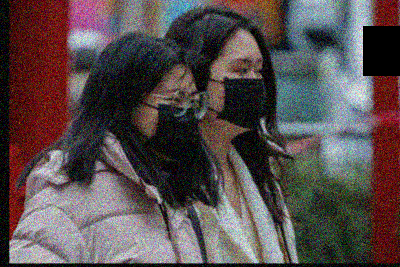with_mask: (131, 86, 200, 161), (207, 56, 265, 131)
